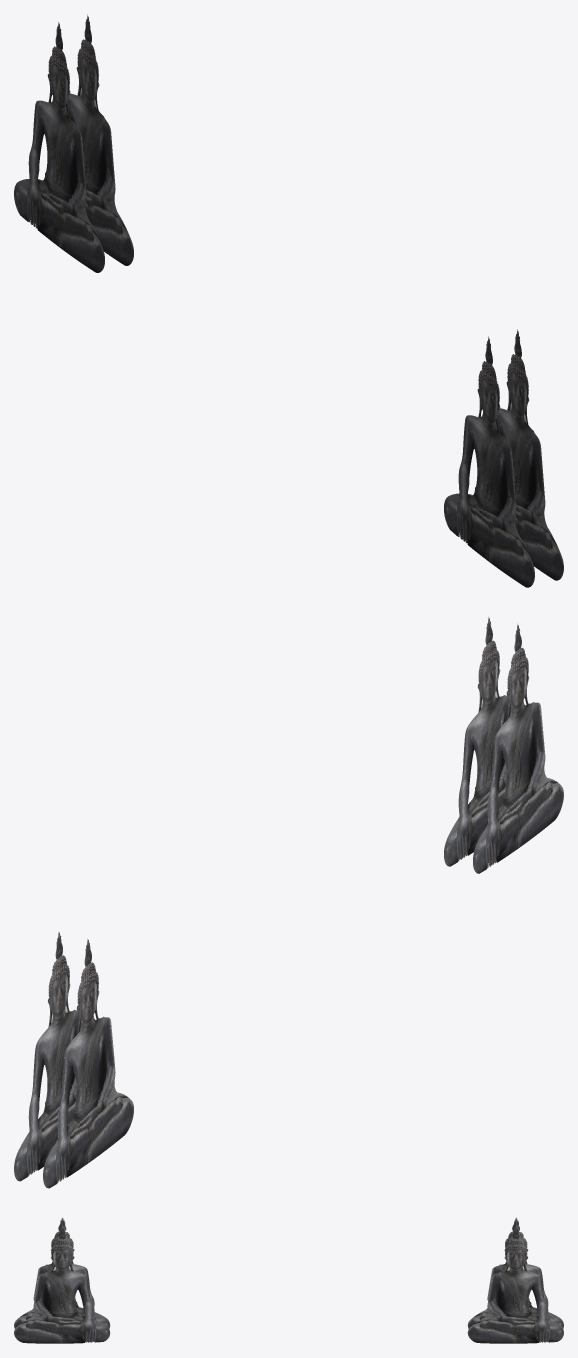
File: 29_openskp_material_83.obj
The picture shows the model from 3 angles, top to bottom: view 1: azimuth 30°, elevation 25°; view 2: azimuth 150°, elevation 25°; view 3: azimuth 270°, elevation 25°; orthographic projection. The views are drawn at different scales.
Visible parts, largest first — view 1: 29_openskp_material_83; view 2: 29_openskp_material_83; view 3: 29_openskp_material_83.
Part boxes in pixels (x1=…): 29_openskp_material_83: x1=14, y1=14, x2=563, y2=587; 29_openskp_material_83: x1=14, y1=616, x2=563, y2=1188; 29_openskp_material_83: x1=14, y1=1217, x2=563, y2=1343.
Size of the model in its own units: 0.3653 by 2.72 by 11.38.
Materials: 1 (1 with a texture image).
